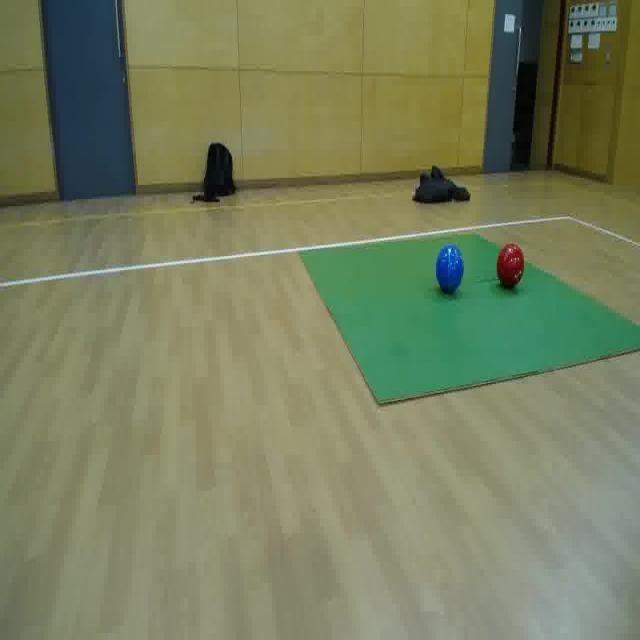blue_ball: (434, 243, 465, 296)
red_ball: (495, 242, 526, 293)
